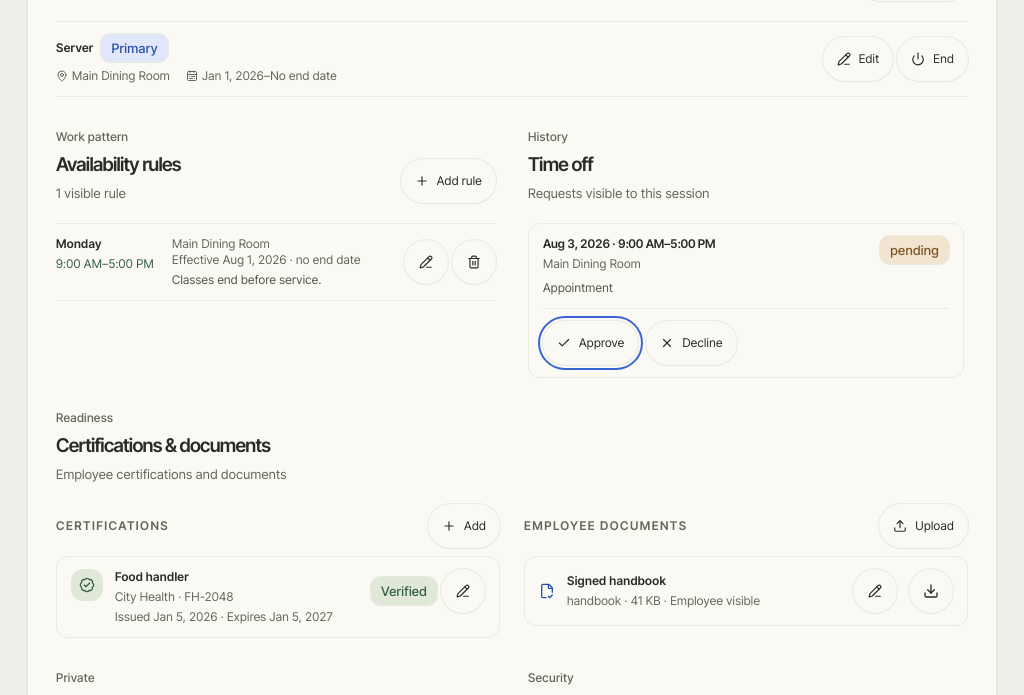
connected Team employee details › keeps keyboard focus inside People dialogs and restores the opener
This screenshot has width=1024, height=695.
(page scrolled)
Click the button "Approve". click: (591, 343)
box: [543,321,638,365]
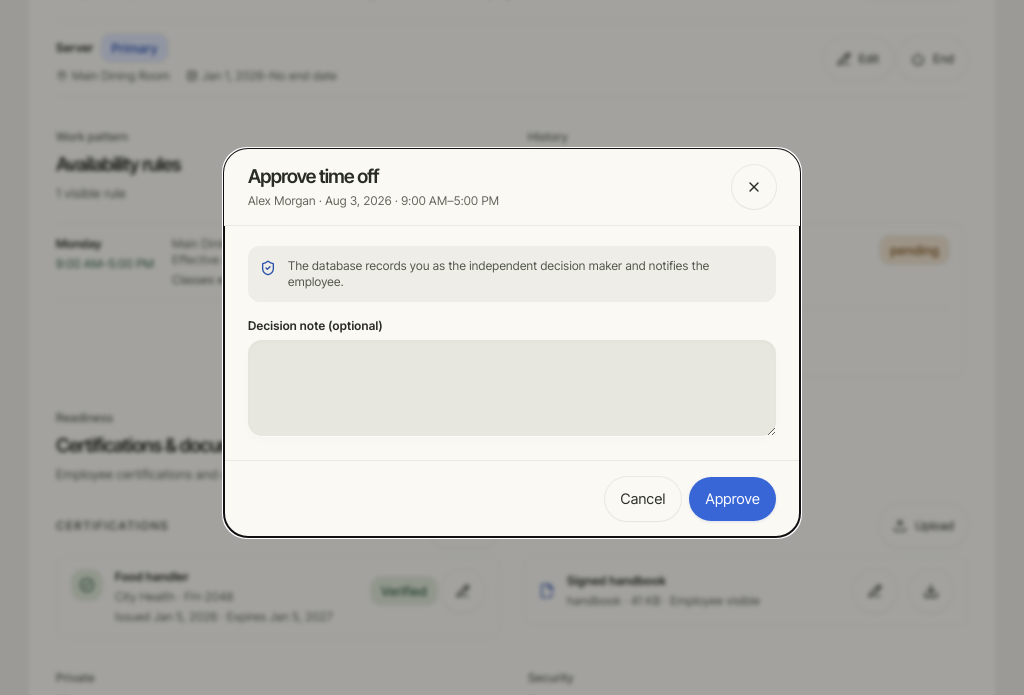
Press Tab in the dialog, box [224,149,800,537]
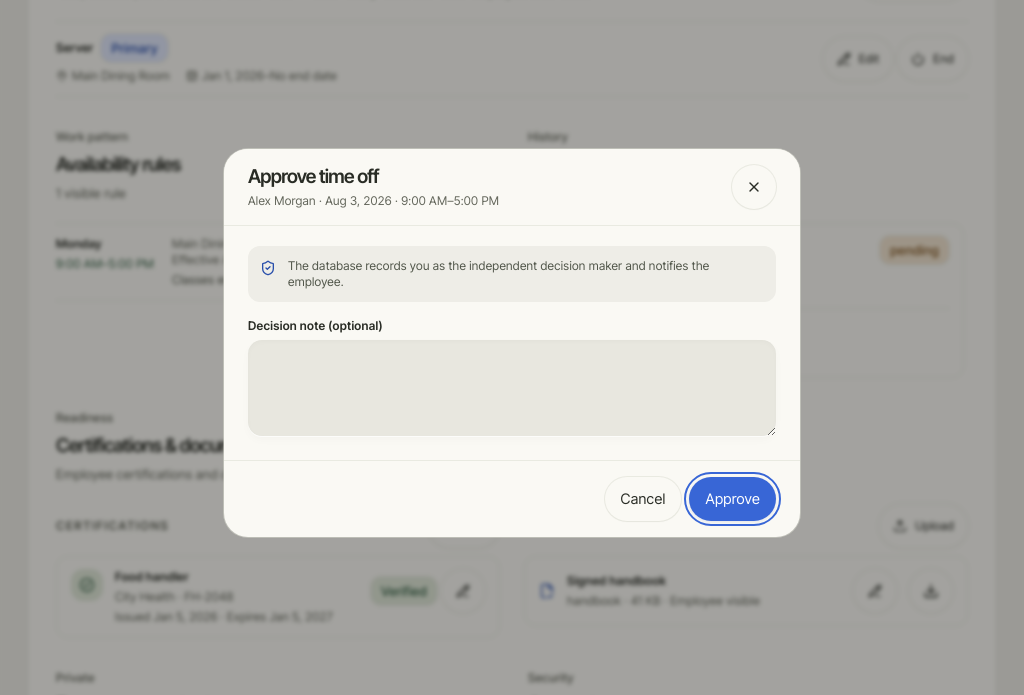
Press Tab in the button "Approve", box [690,477,776,521]
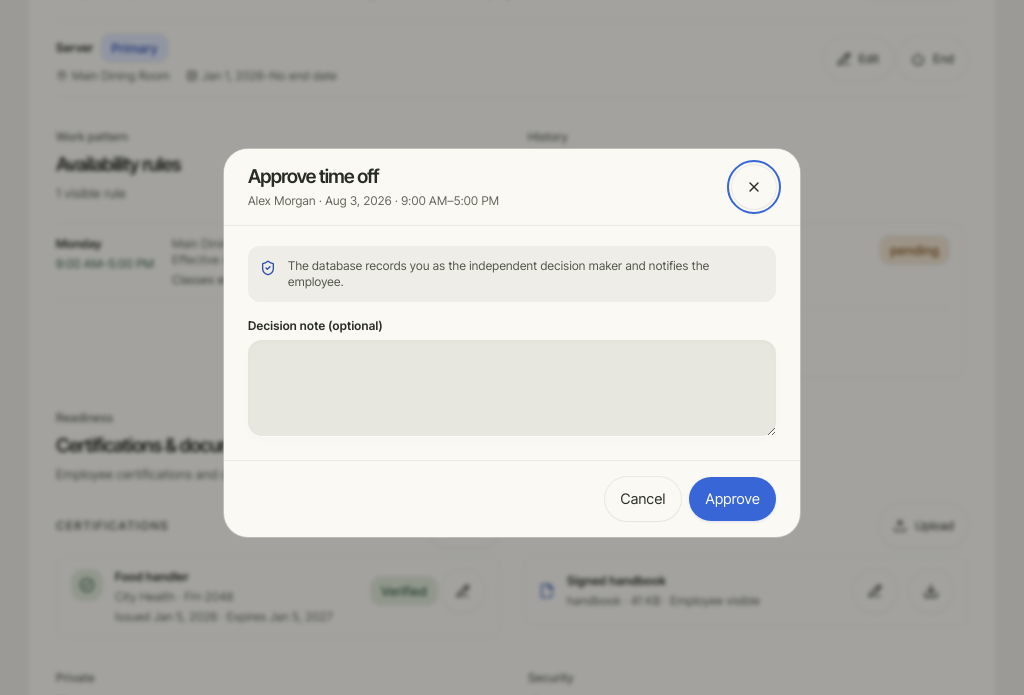
Press Tab in the button named "Close", box [732,165,776,209]
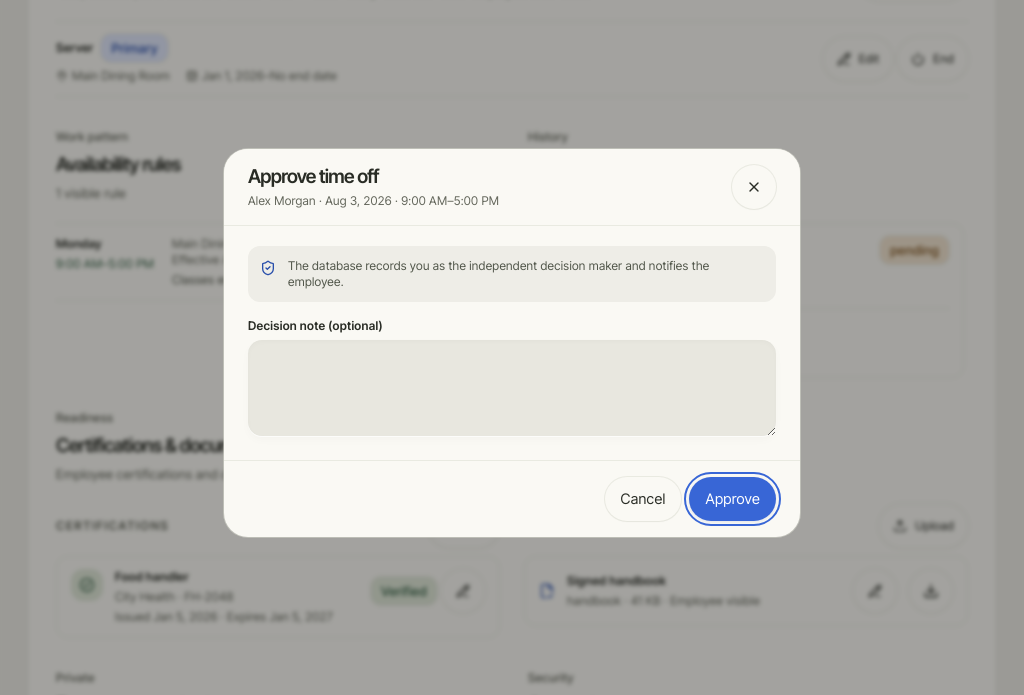
Press Escape in the dialog, box [224,149,800,537]
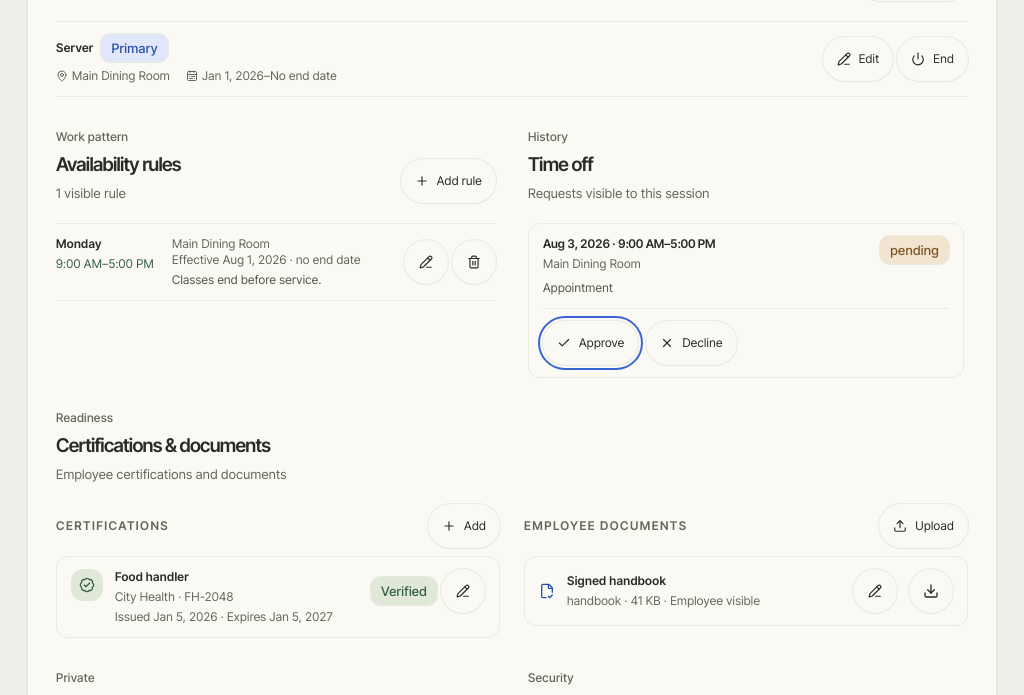
Check: the dialog is gone
